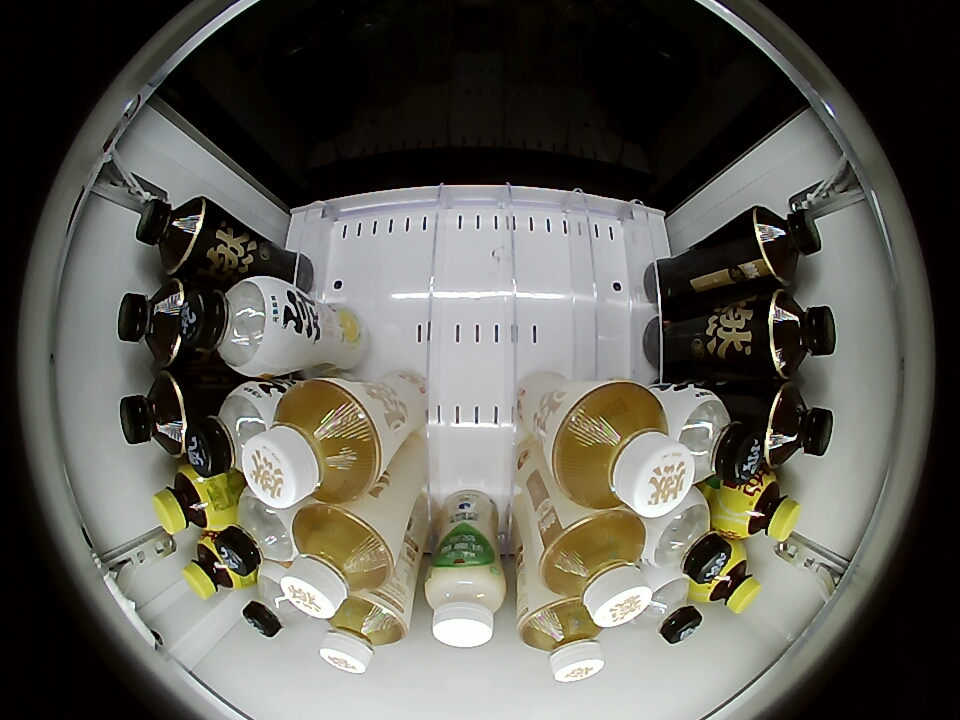rancha-1: (117, 278, 189, 366), (767, 291, 837, 378), (762, 383, 834, 467), (119, 371, 188, 456), (135, 195, 208, 273), (751, 205, 823, 284)
rancha-2: (549, 381, 696, 517), (242, 379, 384, 508), (536, 510, 651, 628), (281, 505, 395, 619), (518, 596, 606, 683), (321, 593, 408, 675)
weitaningmeng-bottle: (724, 472, 802, 543), (153, 465, 228, 534), (697, 546, 762, 614), (183, 534, 247, 600)
yousuanru: (425, 559, 506, 648)
yuanqishui: (180, 276, 291, 377), (662, 387, 762, 484), (186, 383, 282, 476), (638, 490, 731, 582), (215, 492, 300, 575), (627, 570, 702, 645), (244, 561, 308, 637)
